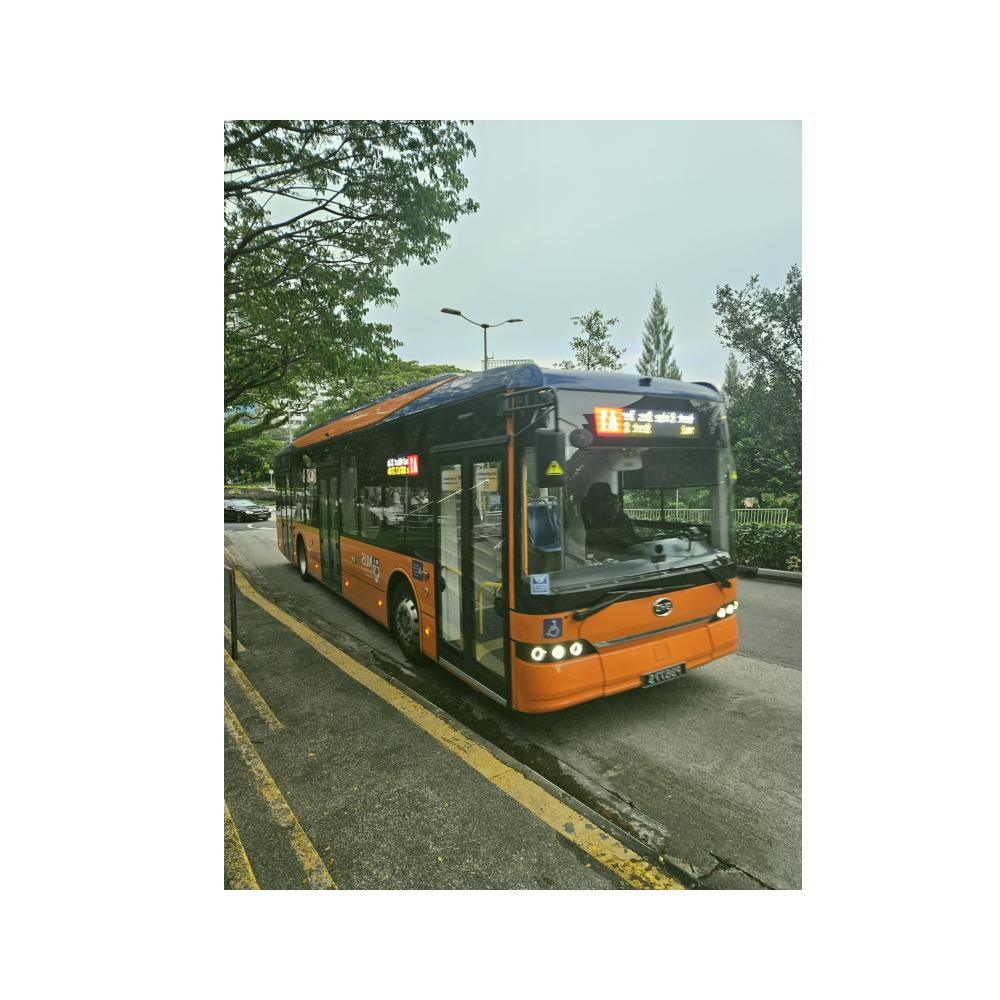bus: (272, 363, 745, 717)
